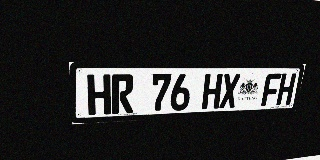6: (170, 74, 192, 111)
7: (150, 74, 172, 112)
F: (261, 73, 282, 106)
H: (87, 74, 111, 115), (201, 74, 223, 109), (276, 73, 296, 105)
R: (111, 74, 134, 114)
X: (219, 74, 240, 108)
